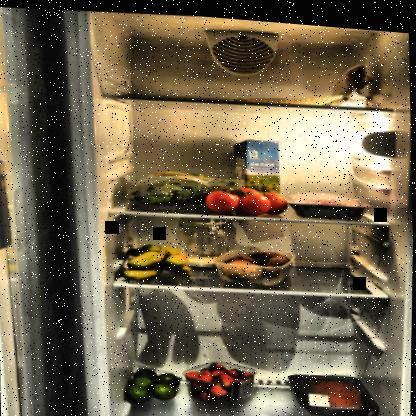banana: (121, 238, 194, 283)
beef: (287, 364, 382, 415)
ground_beef: (287, 183, 375, 217)
lime: (126, 363, 182, 405)
milk: (231, 131, 284, 205)
potato: (221, 240, 296, 284)
spinach: (122, 163, 231, 212)
strawberries: (183, 352, 261, 404)
tomato: (204, 179, 289, 217)
